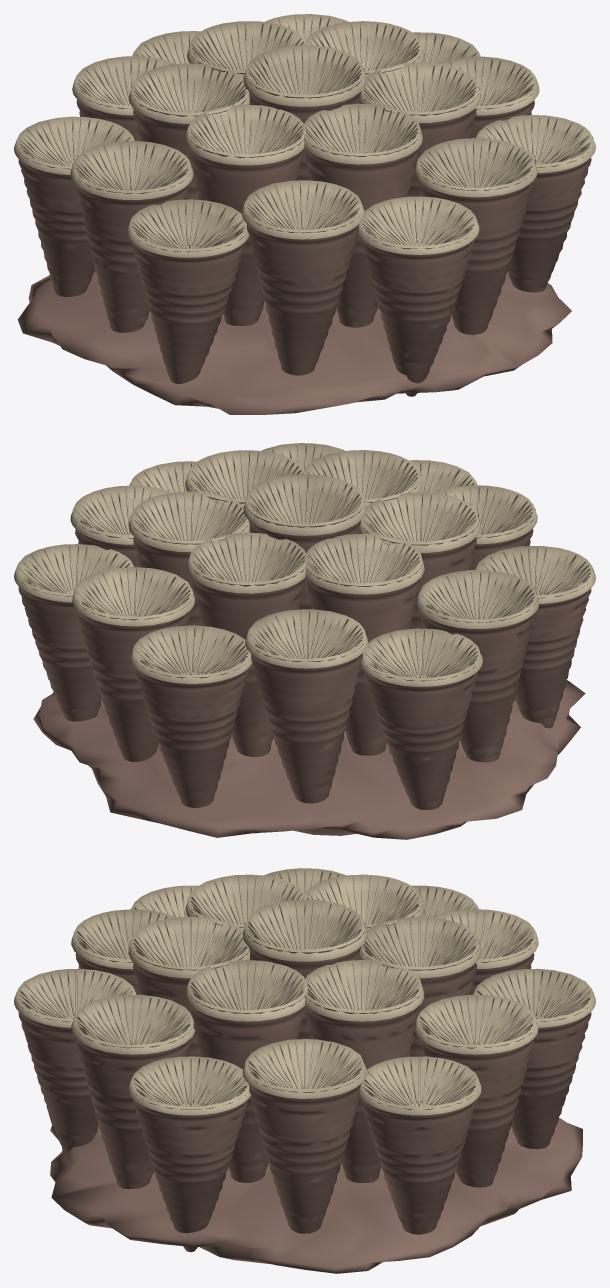
File: colonial-rugose-coral.lod1.glb
3 views of the same model, one above another, from view 1: azimuth 30°, elevation 25°; view 2: azimuth 150°, elevation 25°; view 3: azimuth 270°, elevation 25° (orthographic).
Parts seen in each view (by area): view 1: colonial-rugose-coral; view 2: colonial-rugose-coral; view 3: colonial-rugose-coral.
Part boxes in pixels (left/top/right/bottom): colonial-rugose-coral: left=14, top=14, right=595, bottom=414; colonial-rugose-coral: left=14, top=443, right=595, bottom=839; colonial-rugose-coral: left=14, top=868, right=595, bottom=1273.
Bounding box in the file's own units: 0.0952 × 0.0455 × 0.0985.
